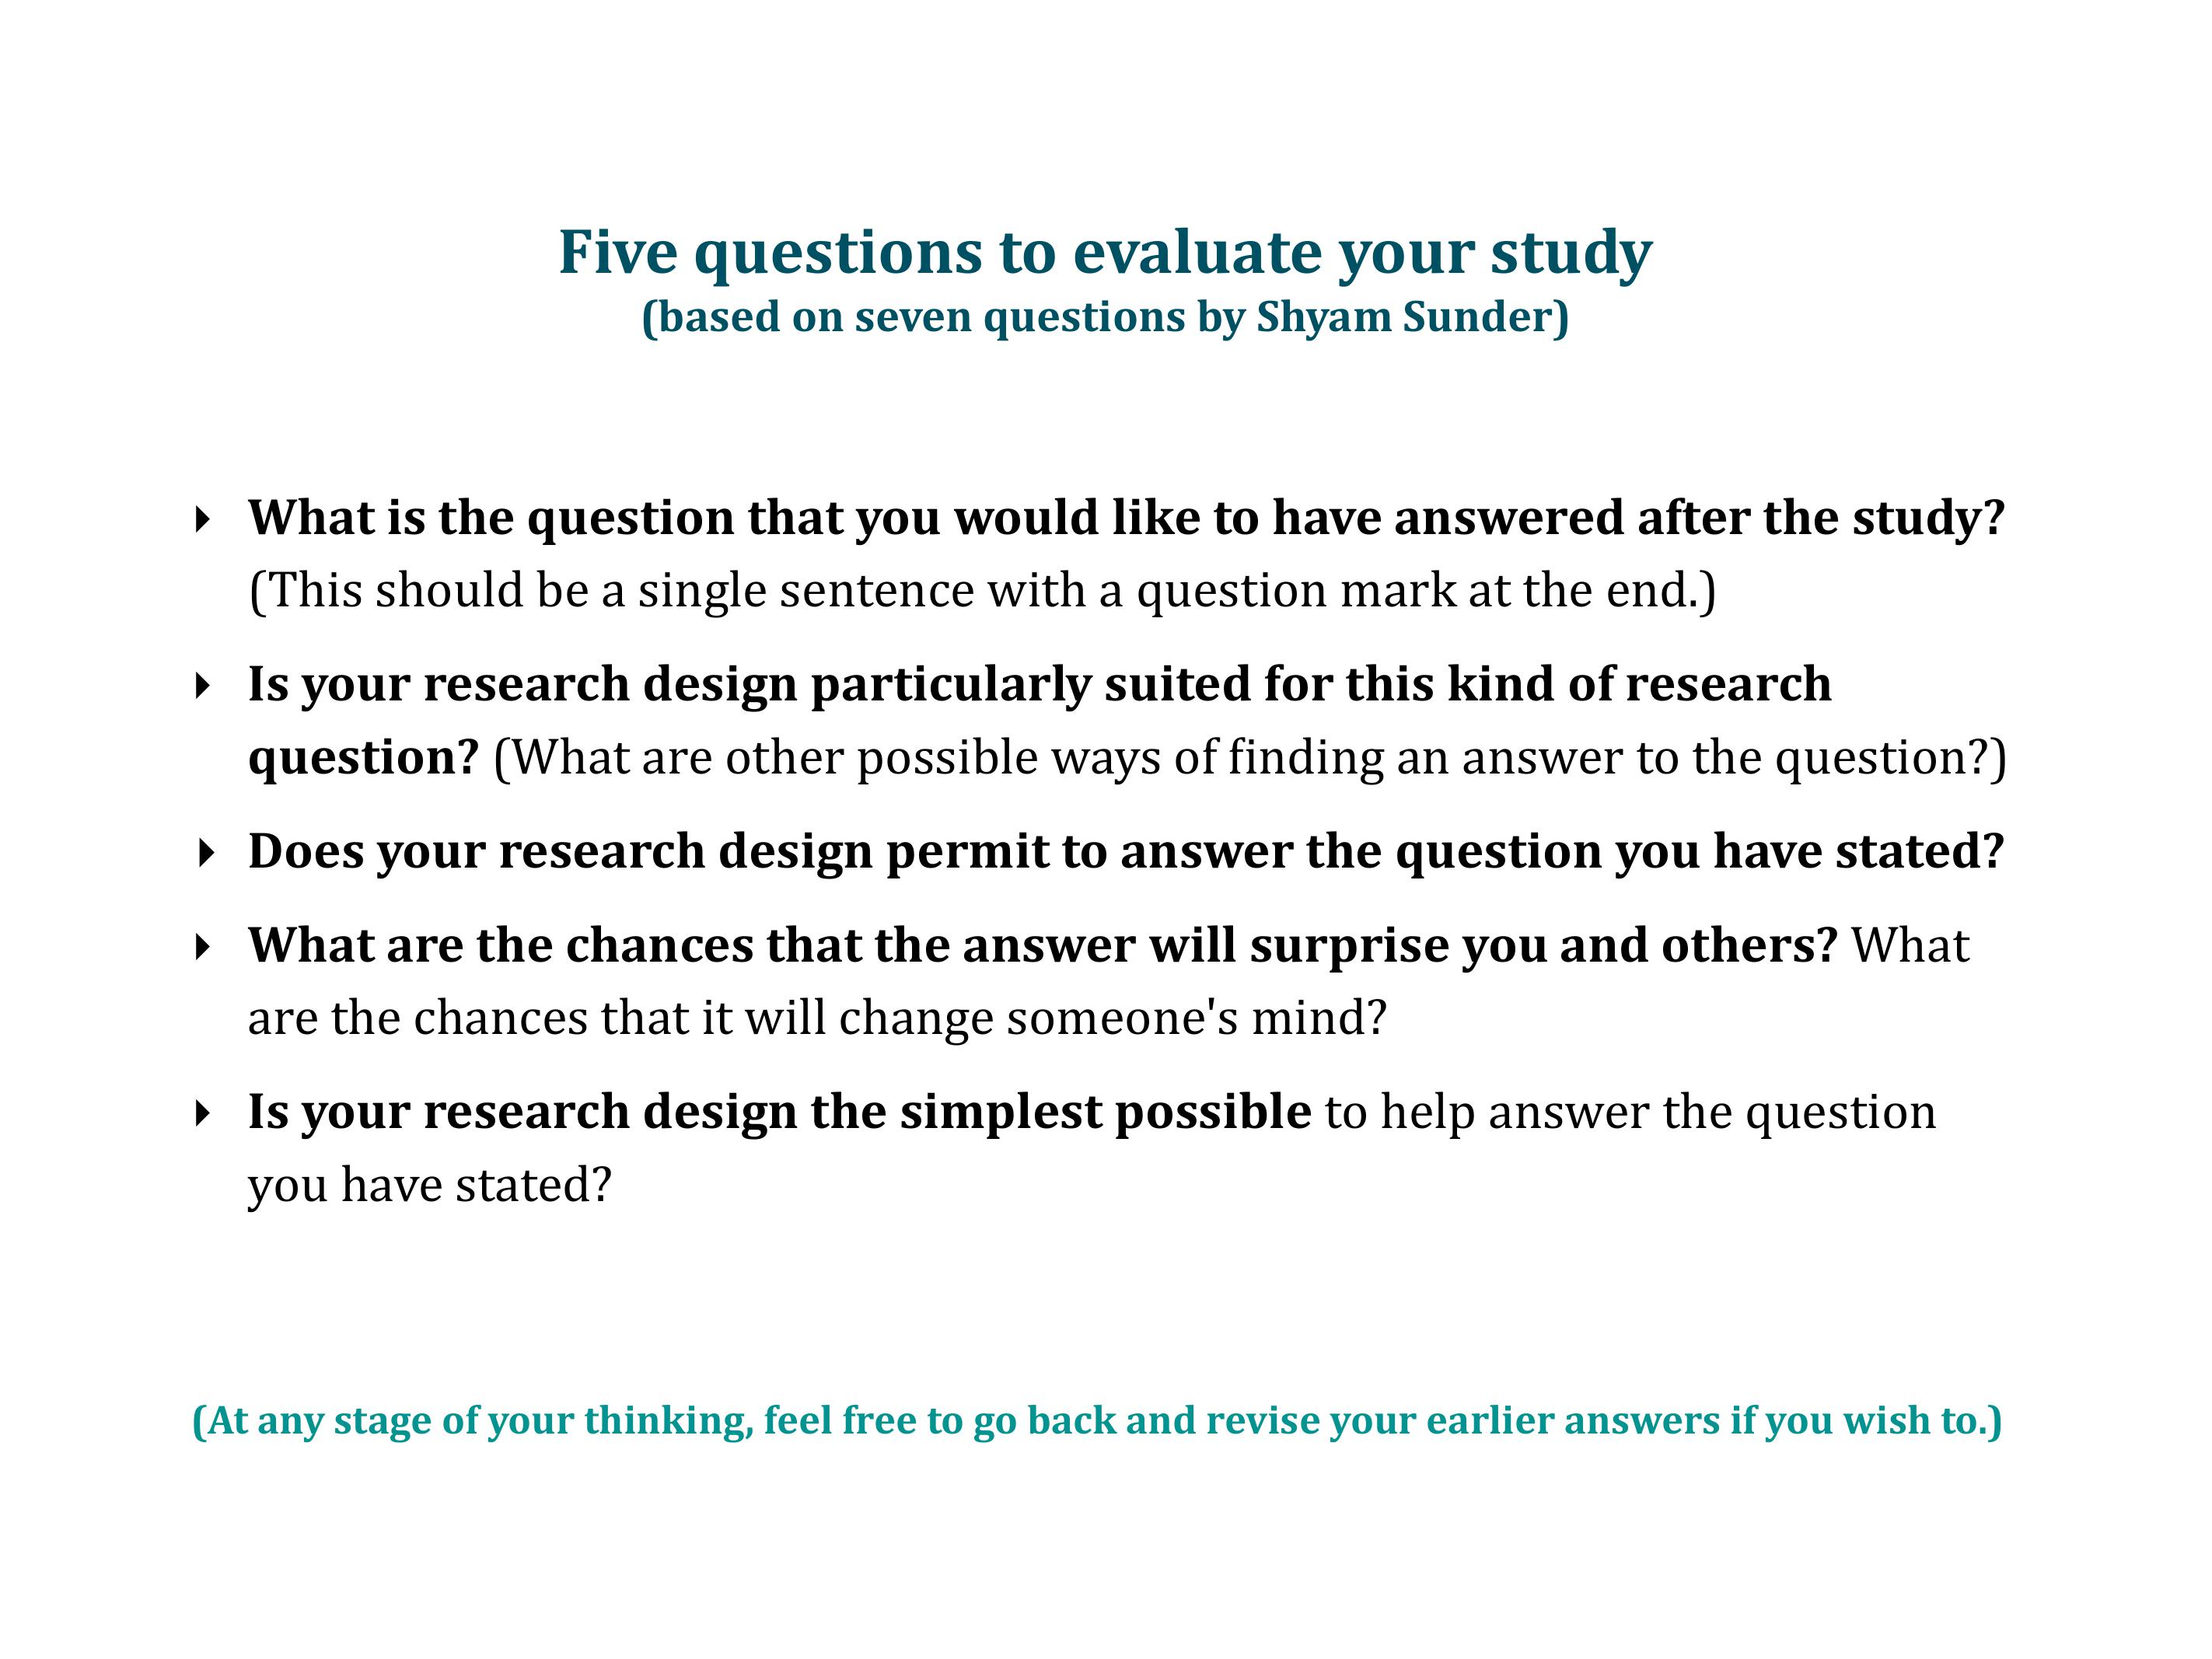Title: (540, 213, 1673, 288)
